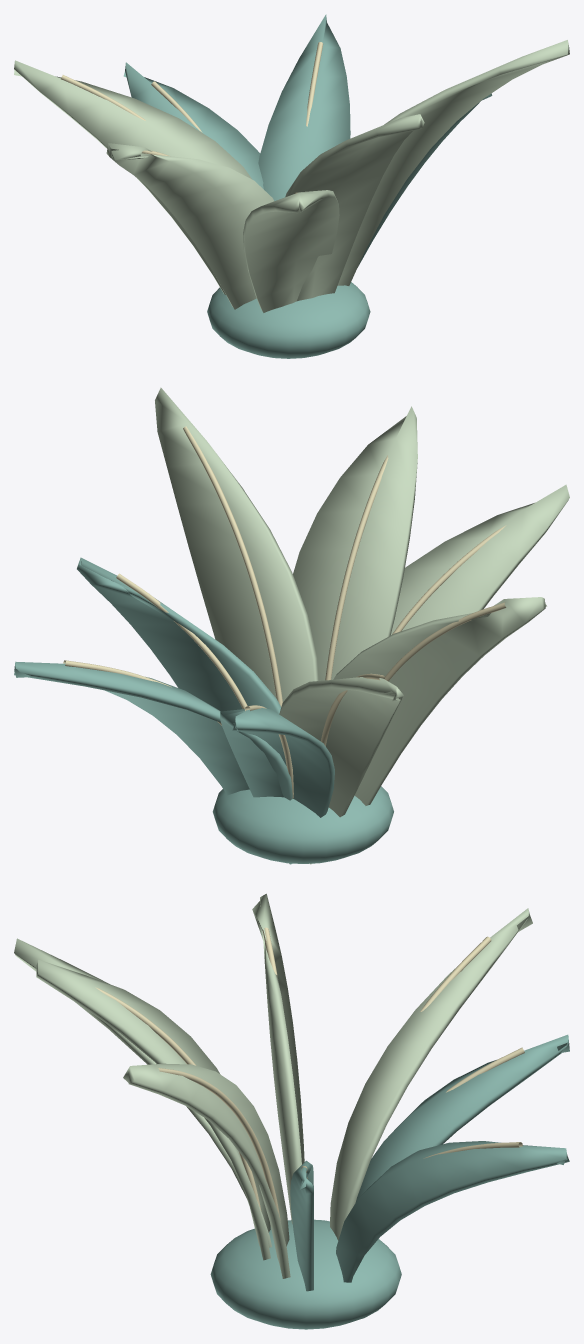
The model's file is bio_mist_leaf_01_near.glb.
3 views of the same model, one above another, from view 1: azimuth 30°, elevation 25°; view 2: azimuth 150°, elevation 25°; view 3: azimuth 270°, elevation 25° (orthographic). The views are drawn at different scales.
Parts seen in each view (by area): view 1: Cupped condensate leaf.004, Cupped condensate leaf.003, Cupped condensate leaf.001, Cupped condensate leaf.007, Root rosette, Cupped condensate leaf.002, Cupped condensate leaf.005, Cupped condensate leaf.006, Cupped condensate leaf, Central leaf rib.003; view 2: Cupped condensate leaf.005, Cupped condensate leaf.002, Cupped condensate leaf.004, Cupped condensate leaf.007, Root rosette, Cupped condensate leaf, Cupped condensate leaf.003, Cupped condensate leaf.001, Cupped condensate leaf.006, Central leaf rib.005, Central leaf rib.002, Central leaf rib (+2 smaller); view 3: Root rosette, Cupped condensate leaf.001, Cupped condensate leaf.003, Cupped condensate leaf.002, Cupped condensate leaf.006, Cupped condensate leaf.005, Cupped condensate leaf.004, Cupped condensate leaf, Cupped condensate leaf.007, Central leaf rib.005, Central leaf rib.002, Central leaf rib.001.
Boxes of the visible parts, bbox=[...] form: Cupped condensate leaf.004: bbox=[106, 143, 273, 309]; Cupped condensate leaf.003: bbox=[258, 14, 350, 201]; Cupped condensate leaf.001: bbox=[14, 60, 252, 294]; Cupped condensate leaf.007: bbox=[243, 190, 339, 312]; Root rosette: bbox=[207, 282, 370, 358]; Cupped condensate leaf.002: bbox=[285, 114, 424, 301]; Cupped condensate leaf.005: bbox=[337, 40, 569, 285]; Cupped condensate leaf.006: bbox=[123, 62, 263, 189]; Cupped condensate leaf: bbox=[357, 93, 492, 267]; Central leaf rib.003: bbox=[306, 42, 323, 126]; Cupped condensate leaf.005: bbox=[155, 387, 318, 701]; Cupped condensate leaf.002: bbox=[293, 406, 417, 680]; Cupped condensate leaf.004: bbox=[333, 597, 546, 805]; Cupped condensate leaf.007: bbox=[391, 484, 569, 634]; Root rosette: bbox=[212, 786, 393, 863]; Cupped condensate leaf: bbox=[77, 557, 281, 713]; Cupped condensate leaf.003: bbox=[14, 661, 292, 800]; Cupped condensate leaf.001: bbox=[279, 677, 403, 864]; Cupped condensate leaf.006: bbox=[220, 708, 334, 864]; Central leaf rib.005: bbox=[183, 426, 282, 706]; Central leaf rib.002: bbox=[325, 455, 388, 680]; Central leaf rib: bbox=[116, 573, 247, 709]; Root rosette: bbox=[210, 1219, 401, 1329]; Cupped condensate leaf.001: bbox=[330, 908, 532, 1240]; Cupped condensate leaf.003: bbox=[336, 1141, 569, 1282]; Cupped condensate leaf.002: bbox=[36, 959, 270, 1260]; Cupped condensate leaf.006: bbox=[355, 1034, 569, 1202]; Cupped condensate leaf.005: bbox=[123, 1063, 290, 1278]; Cupped condensate leaf.004: bbox=[252, 893, 304, 1223]; Cupped condensate leaf: bbox=[290, 1160, 313, 1291]; Cupped condensate leaf.007: bbox=[14, 938, 271, 1247]; Central leaf rib.005: bbox=[158, 1068, 280, 1222]; Central leaf rib.002: bbox=[95, 987, 261, 1210]; Central leaf rib.001: bbox=[420, 936, 491, 1011].
Size of the model in its own units: 1.72 by 1.25 by 1.74.
